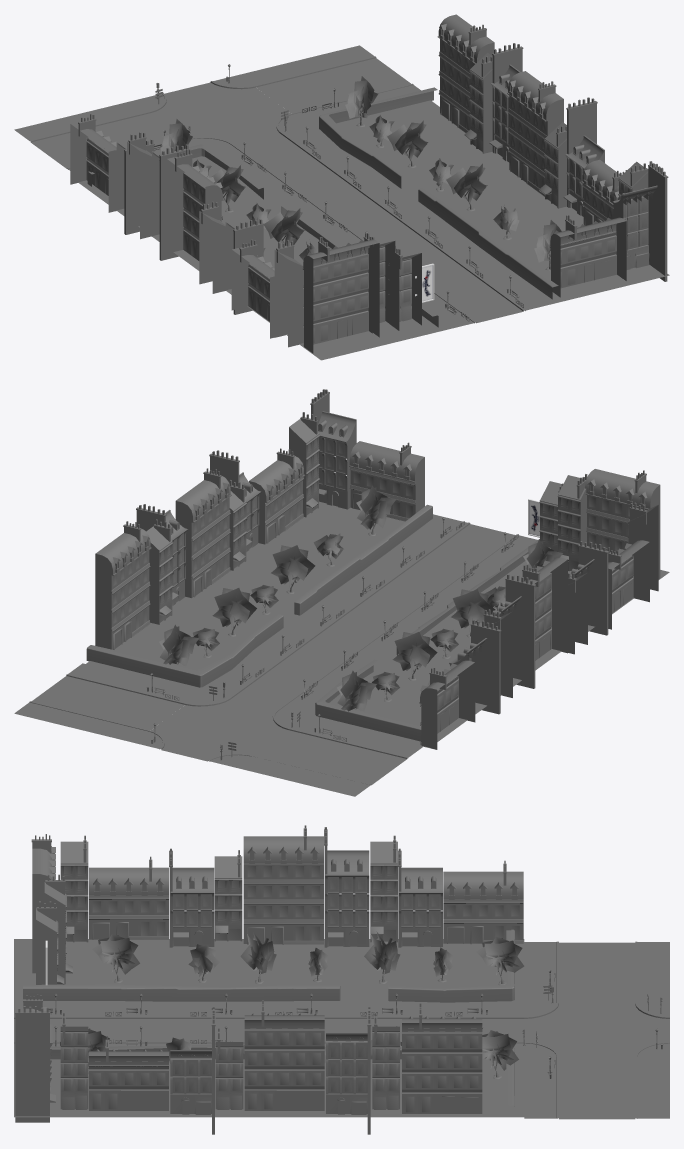
The model's file is ParisFrozen_Park.fbx.
3 renders of one model, top to bottom at view 1: azimuth 30°, elevation 25°; view 2: azimuth 150°, elevation 25°; view 3: azimuth 270°, elevation 25°, orthographic. The views are drawn at different scales.
Parts seen in each view (by area): view 1: ParkBuilding, ParkVegetation, Park_Street, Park_StreetAssets; view 2: ParkBuilding, ParkVegetation, Park_Street, Park_StreetAssets; view 3: ParkBuilding, ParkVegetation, Park_Street, Park_StreetAssets.
Part boxes in pixels (<box>): ParkBuilding: <box>14,14,668,353</box>; ParkVegetation: <box>78,76,669,360</box>; Park_Street: <box>31,58,523,322</box>; Park_StreetAssets: <box>154,64,523,321</box>; ParkBuilding: <box>14,389,660,796</box>; ParkVegetation: <box>86,485,669,747</box>; Park_Street: <box>31,524,515,784</box>; Park_StreetAssets: <box>146,517,518,760</box>; ParkBuilding: <box>14,825,669,1134</box>; ParkVegetation: <box>14,929,524,1117</box>; Park_Street: <box>14,942,669,1119</box>; Park_StreetAssets: <box>48,969,663,1078</box>.
Size of the model in its own units: 32069 by 9037 by 45000.
